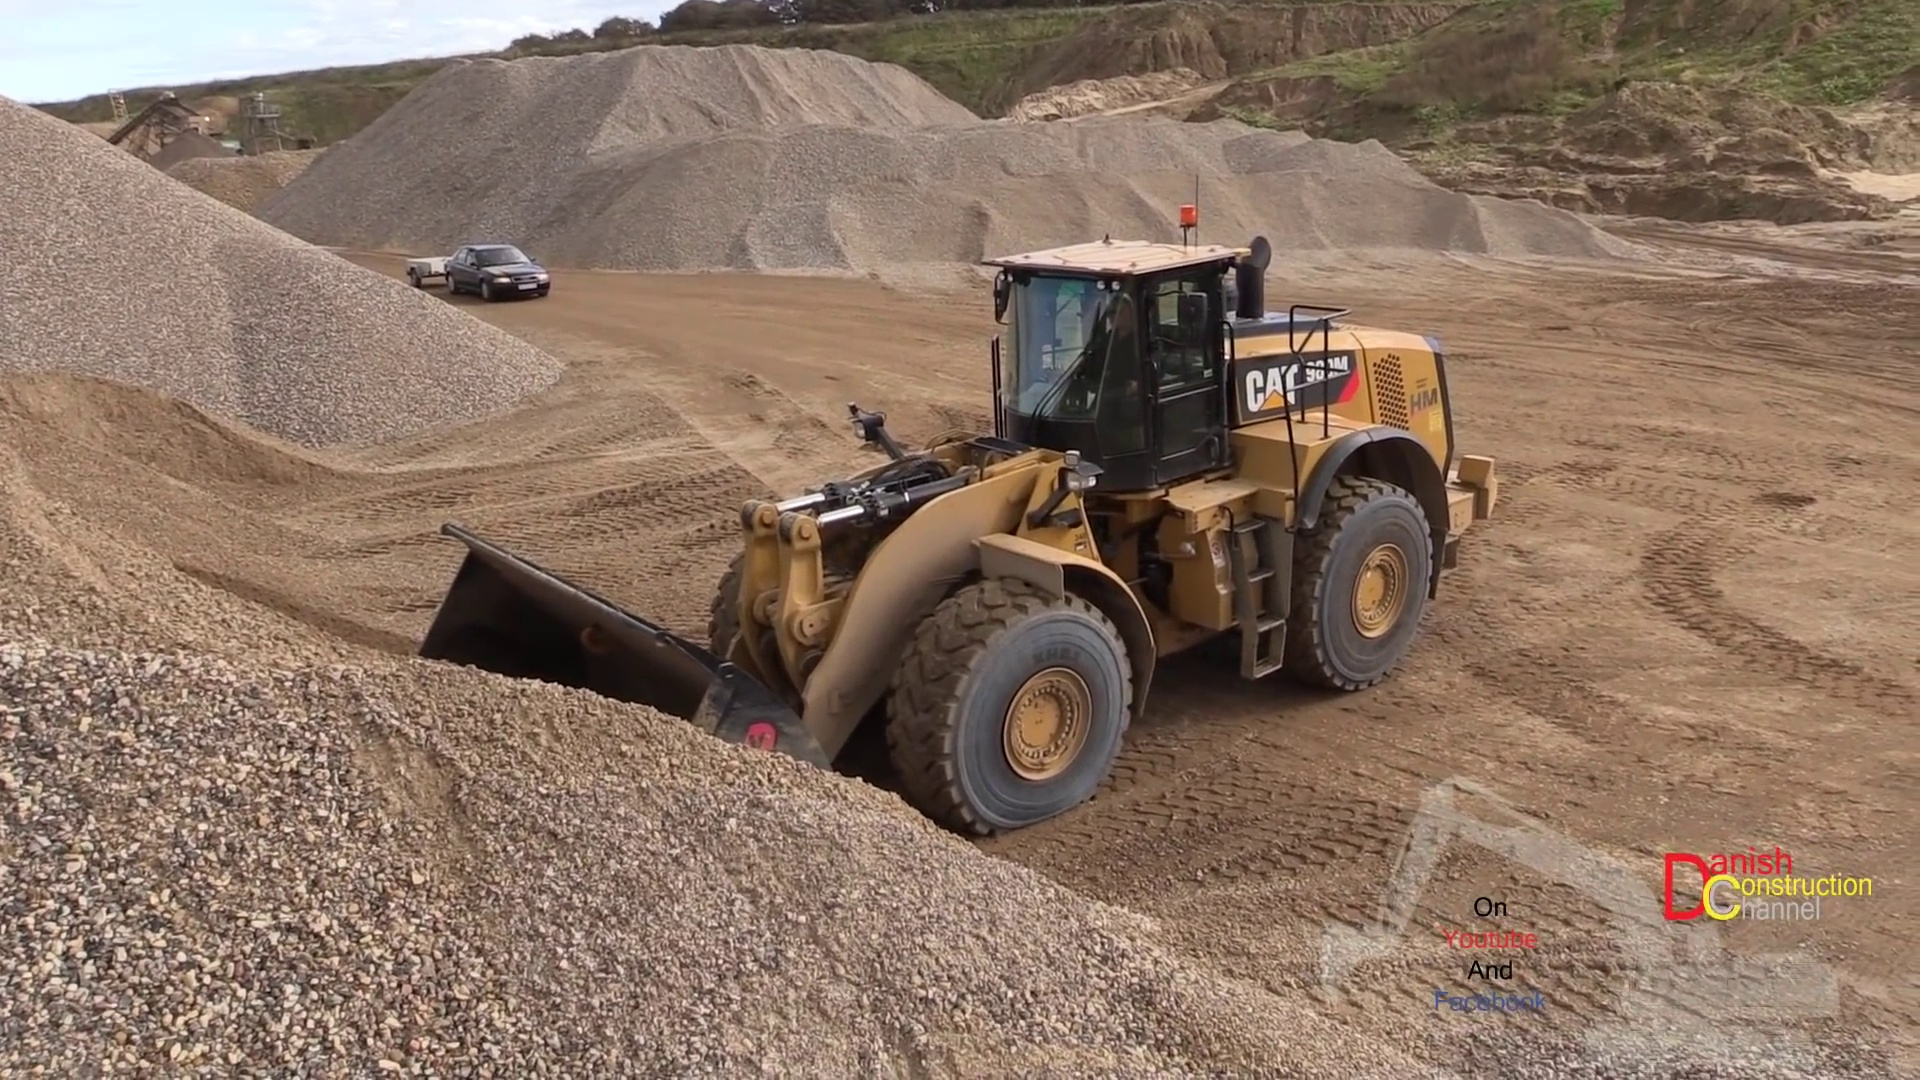car: (415, 243, 549, 305)
wheel loader: (392, 237, 1498, 833)
